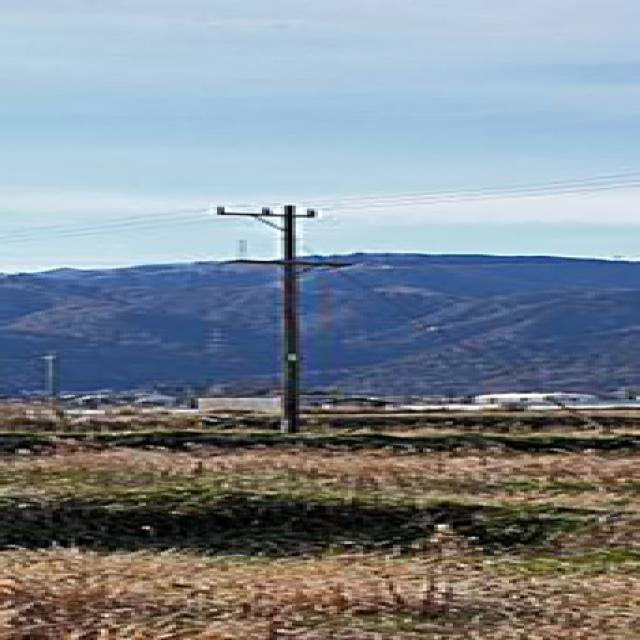pole: (196, 198, 363, 438)
